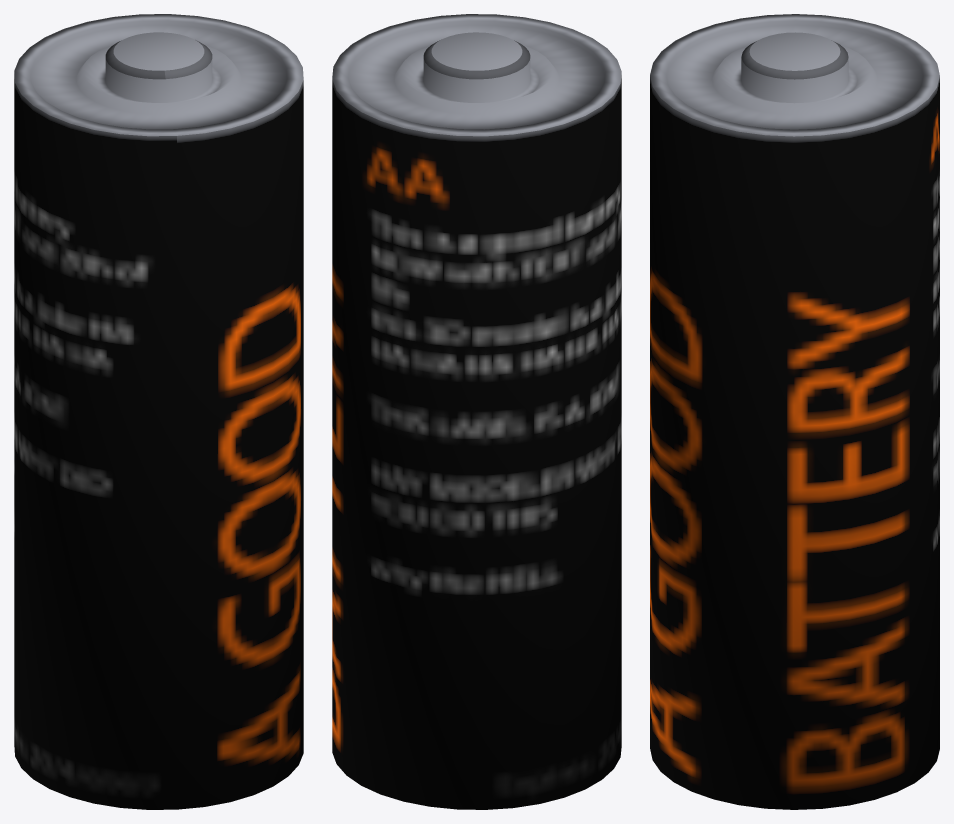
The model's file is battery.glb.
The picture shows the model from 3 angles, left to right: view 1: azimuth 30°, elevation 25°; view 2: azimuth 150°, elevation 25°; view 3: azimuth 270°, elevation 25°; orthographic projection.
Parts seen in each view (by area): view 1: BATTERY; view 2: BATTERY; view 3: BATTERY.
Part boxes in pixels (x1,y1,x2,y2): BATTERY: (14, 14, 303, 809); BATTERY: (332, 14, 621, 809); BATTERY: (650, 14, 939, 809).
Size of the model in its own units: 32.89 by 87.24 by 32.89.
1 material, 1 textured.
